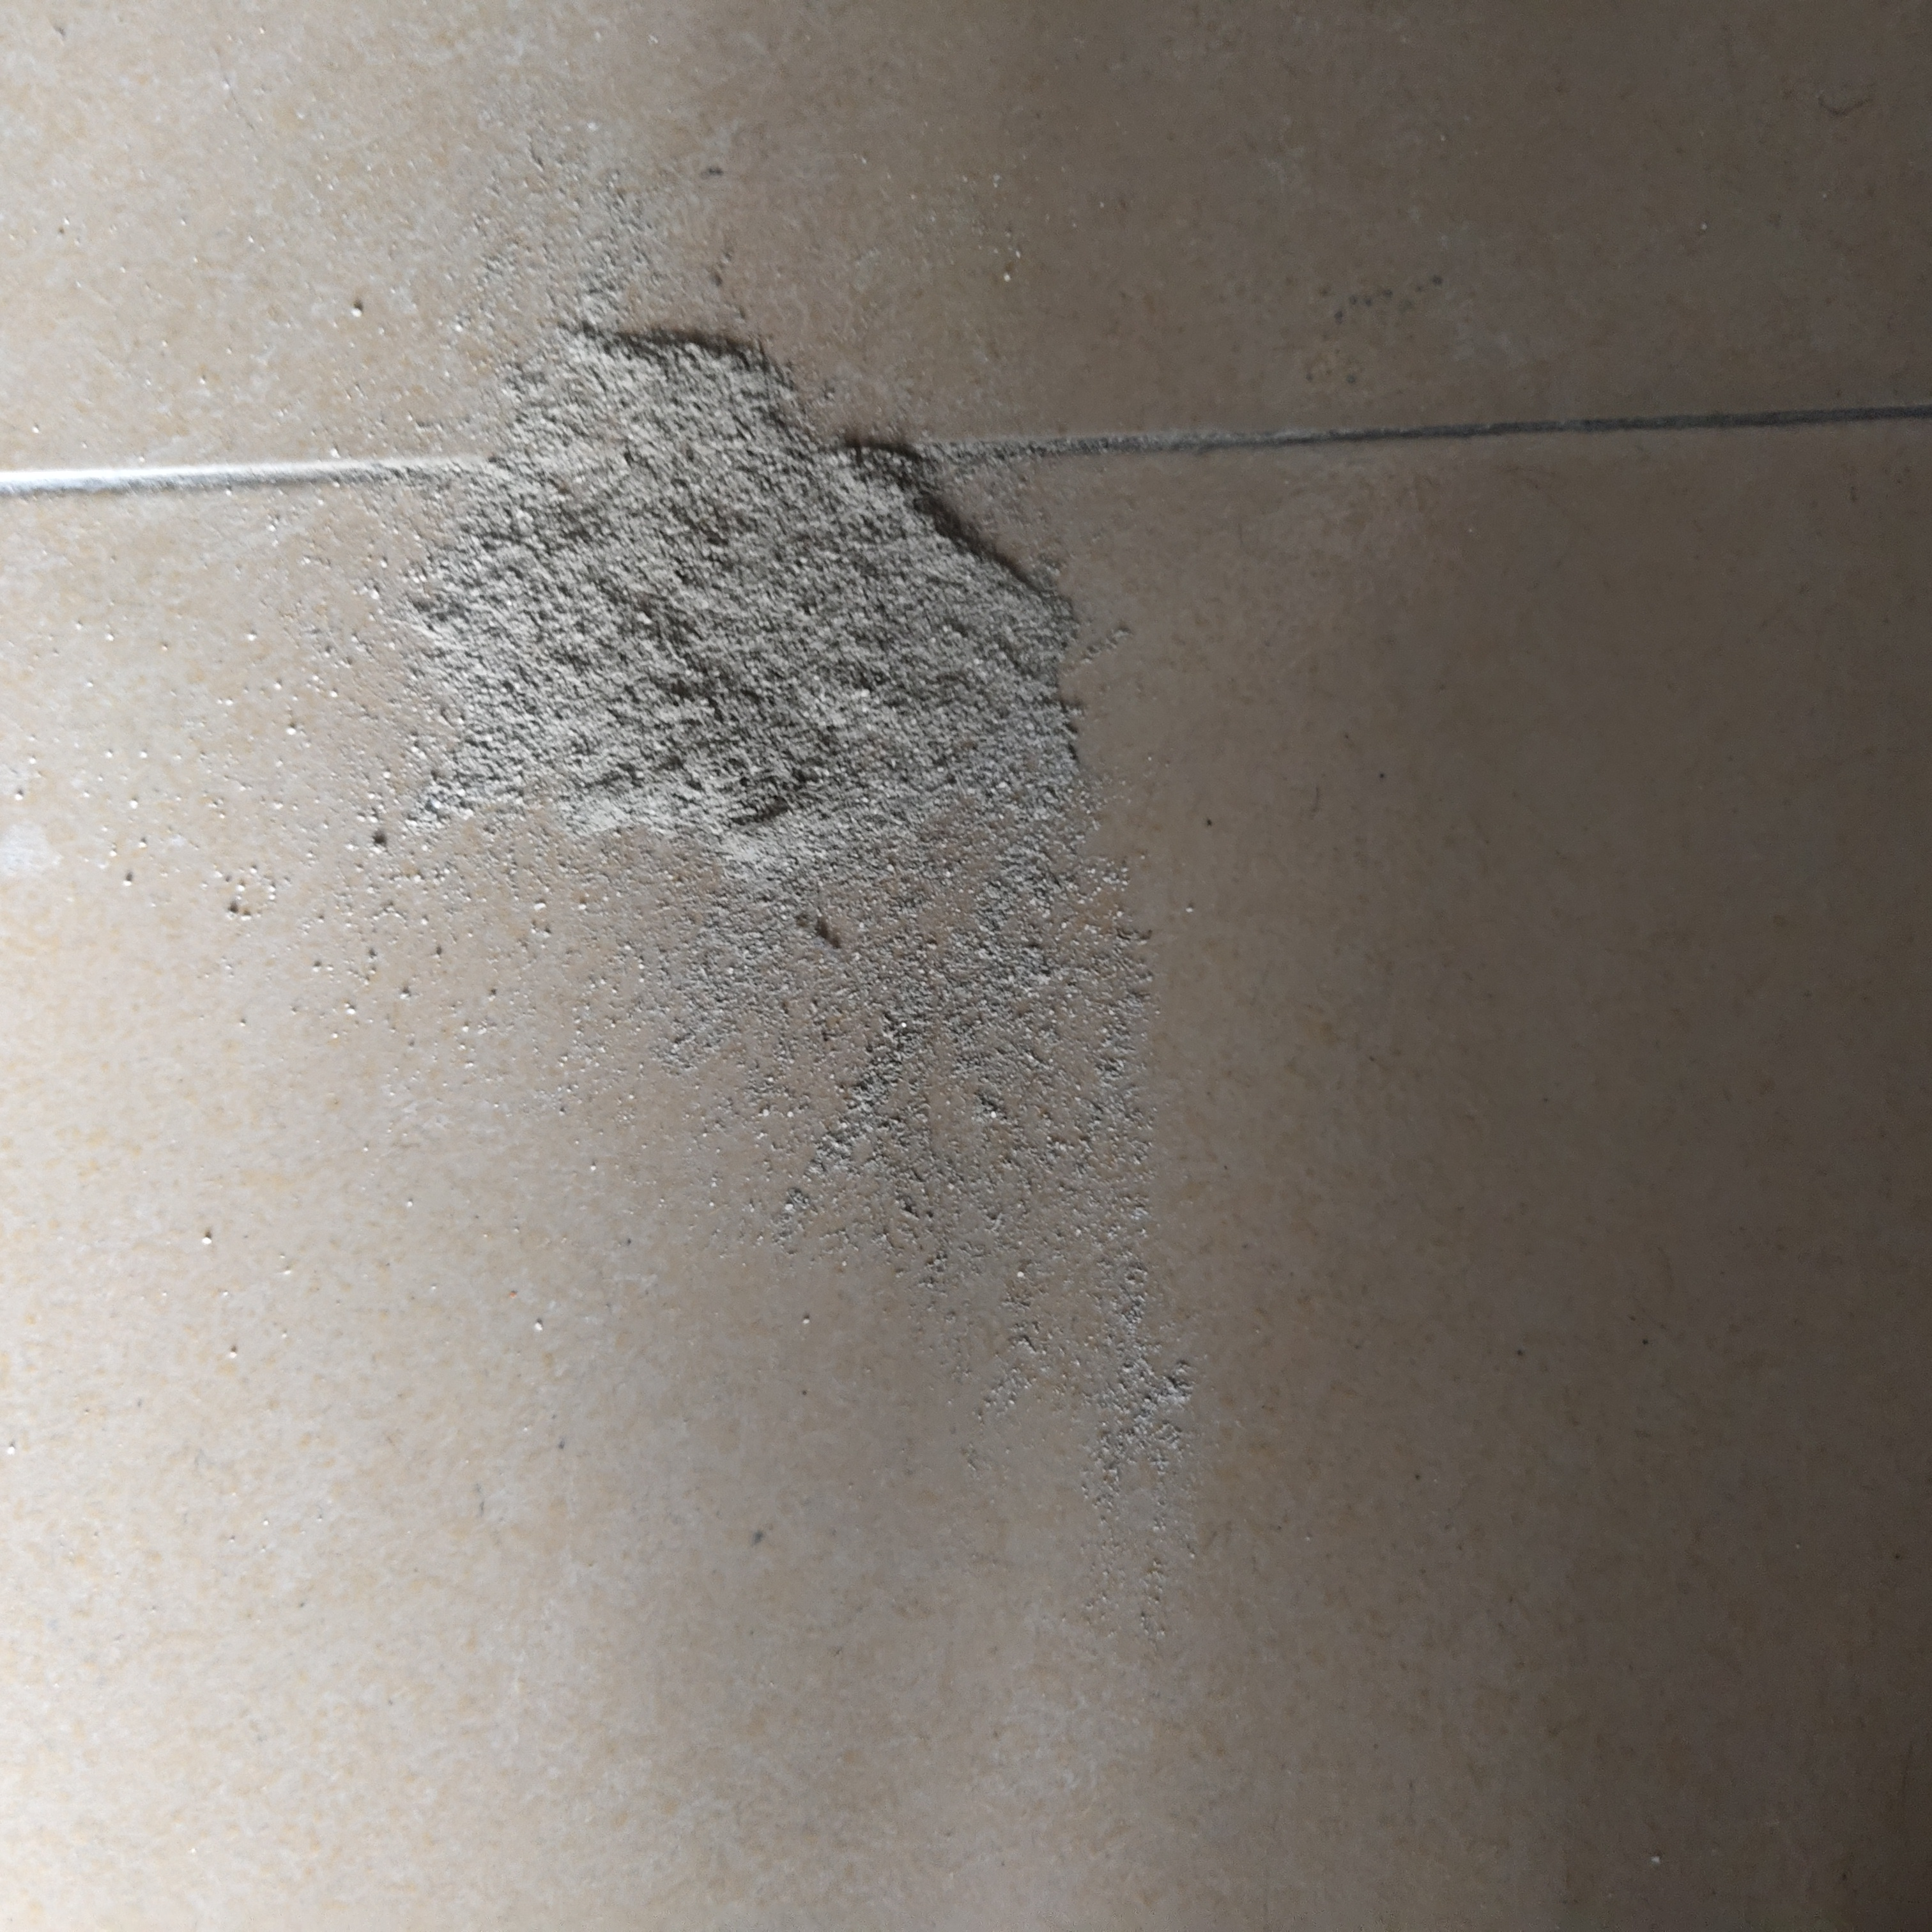ash pile: (350, 120, 1203, 1502)
